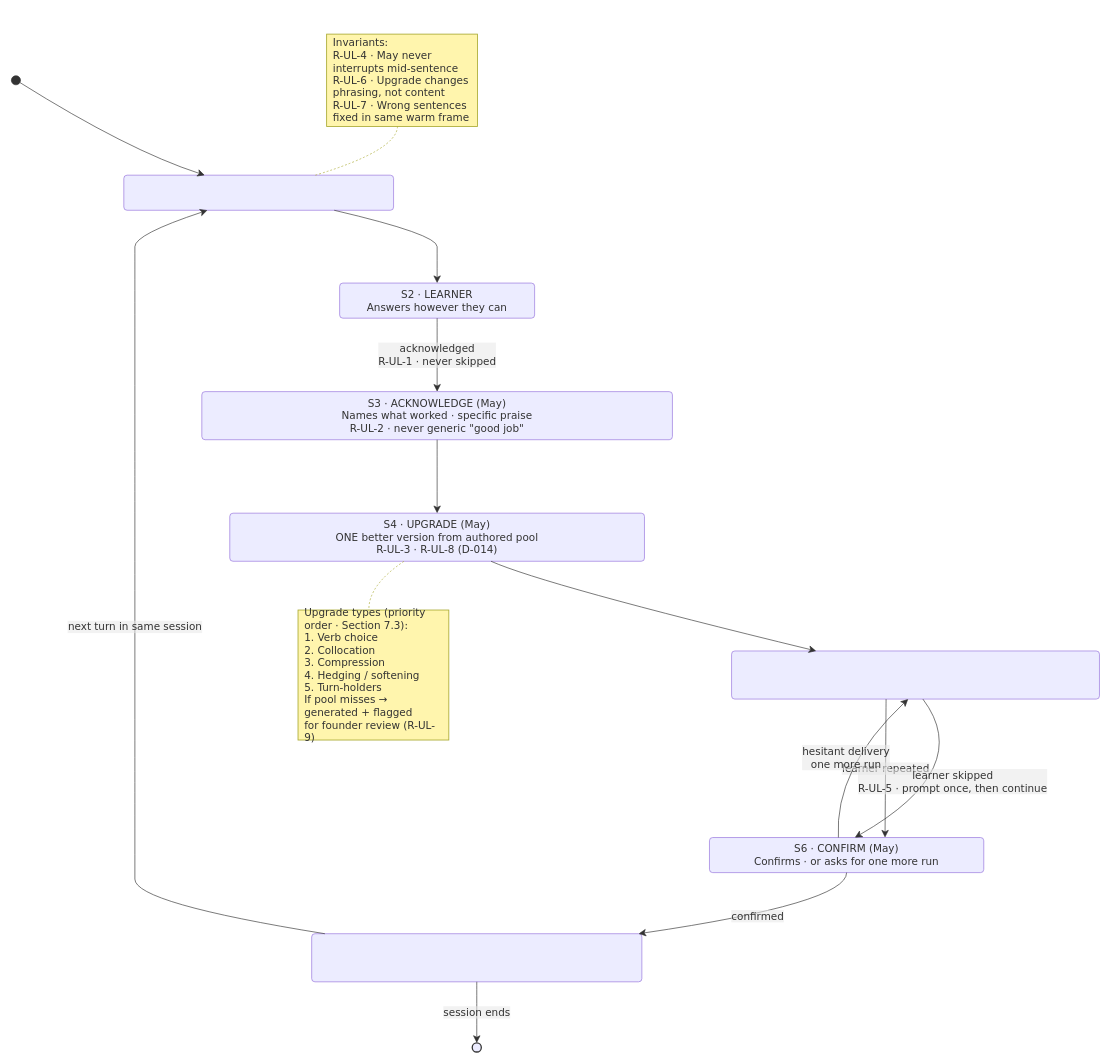
Some shapes in this 1111 by 1063 pixel diagram are drawn without their labels. The shapes that lost their labels are listed below. From the top down, each one's centre as x and y in pixels, then its label:
At point 258,192: "S1 · PROMPT (May) Asks a question or sets a situation".
At point 915,674: "S5 · REPEAT (Learner) Says the upgraded version back R-UL-5 · REQUIRED".
At point 476,957: "S7 · LOG (System) Upgraded phrase → spaced-review queue R-RV-1".
